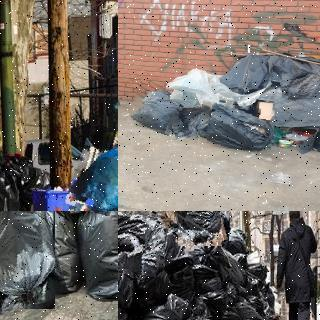Garbage: (0, 211, 62, 313), (70, 127, 118, 211), (75, 211, 118, 302), (199, 104, 275, 153), (118, 211, 168, 272), (191, 236, 249, 286), (129, 81, 180, 133), (175, 211, 225, 248), (118, 235, 142, 307), (170, 105, 212, 140), (141, 291, 191, 320), (195, 264, 227, 307), (280, 72, 320, 101), (232, 295, 266, 320)
